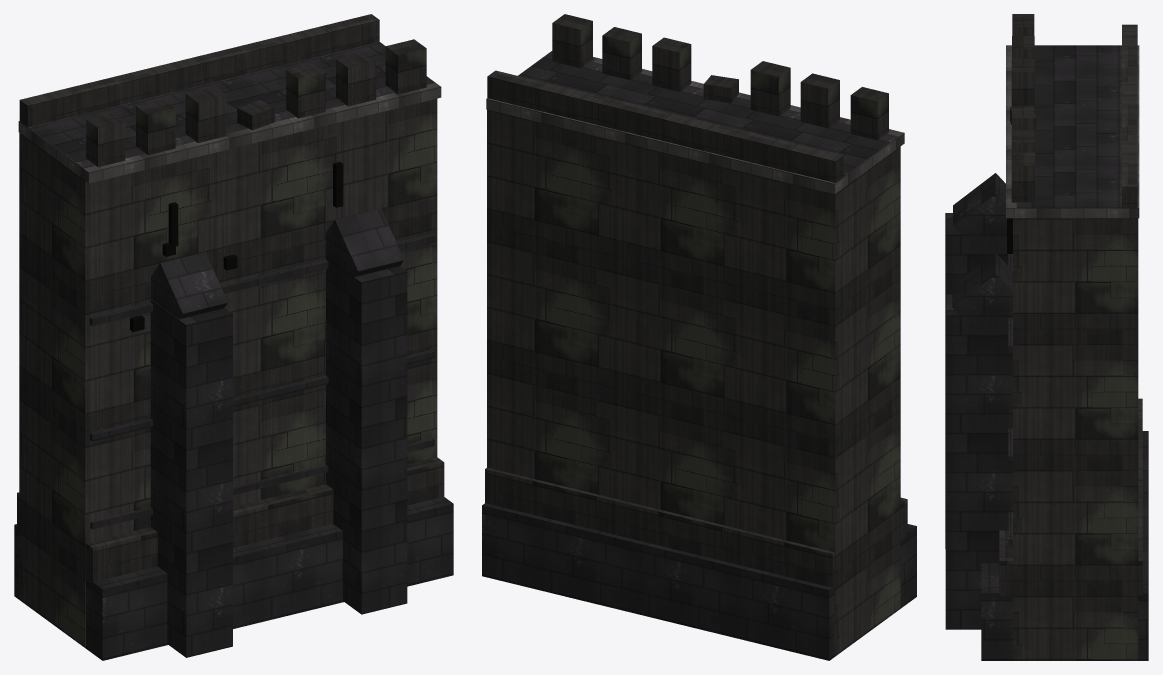
The model's file is TramoContrafuerte.gltf.
3 views of the same model, side by side, from view 1: azimuth 30°, elevation 25°; view 2: azimuth 150°, elevation 25°; view 3: azimuth 270°, elevation 25° (orthographic). The views are drawn at different scales.
Visible parts, largest first — view 1: TramoContrafuerte; view 2: TramoContrafuerte; view 3: TramoContrafuerte.
Boxes of the visible parts, x1,y1,x2,y2 form: TramoContrafuerte: [14, 14, 453, 660]; TramoContrafuerte: [482, 14, 916, 660]; TramoContrafuerte: [945, 14, 1148, 660].
Bounding box in the file's own units: 12.47 × 17.57 × 6.58.
4 materials, 3 textured.
